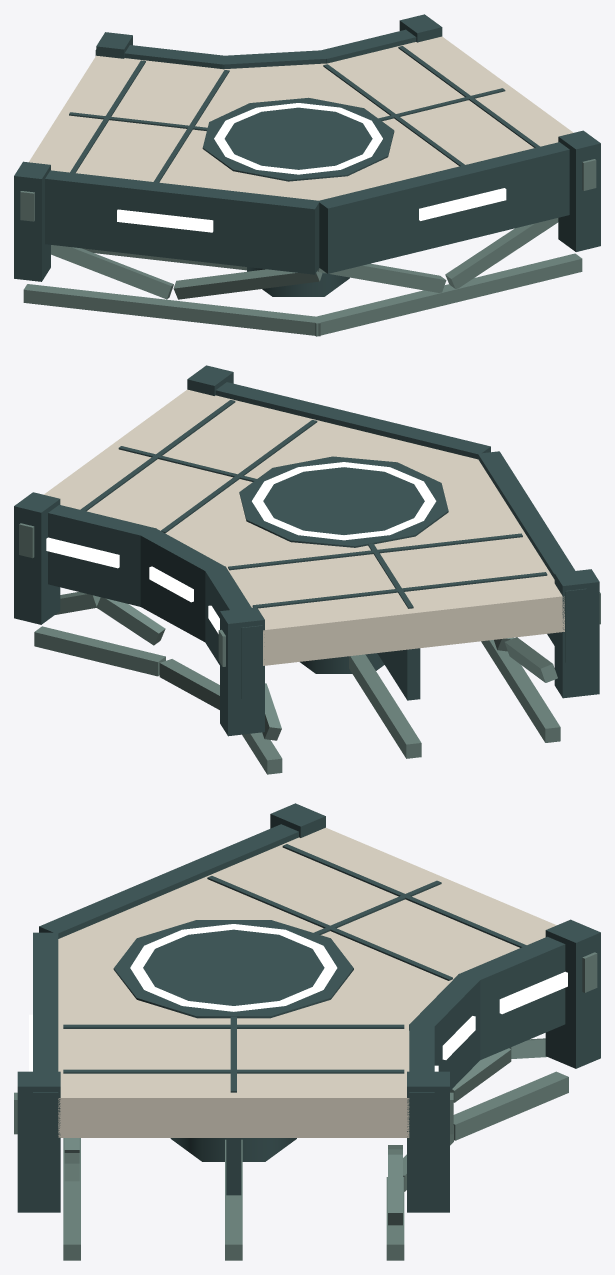
File: Bend_135_lab.glb
The picture shows the model from 3 angles, top to bottom: view 1: azimuth 30°, elevation 25°; view 2: azimuth 150°, elevation 25°; view 3: azimuth 270°, elevation 25°; orthographic projection. The views are drawn at different scales.
Parts seen in each view (by area): view 1: Bend_135; view 2: Bend_135; view 3: Bend_135.
Boxes of the visible parts, x1,y1,x2,y2 form: Bend_135: (14,14,600,336); Bend_135: (14,365,600,774); Bend_135: (14,803,600,1260).
Bounding box in the file's own units: 5.32 × 1.58 × 4.65.
